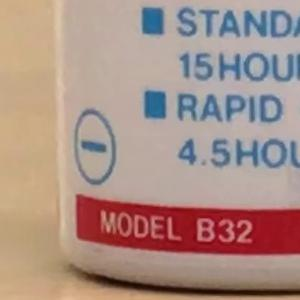keyword: (144, 213, 237, 243)
